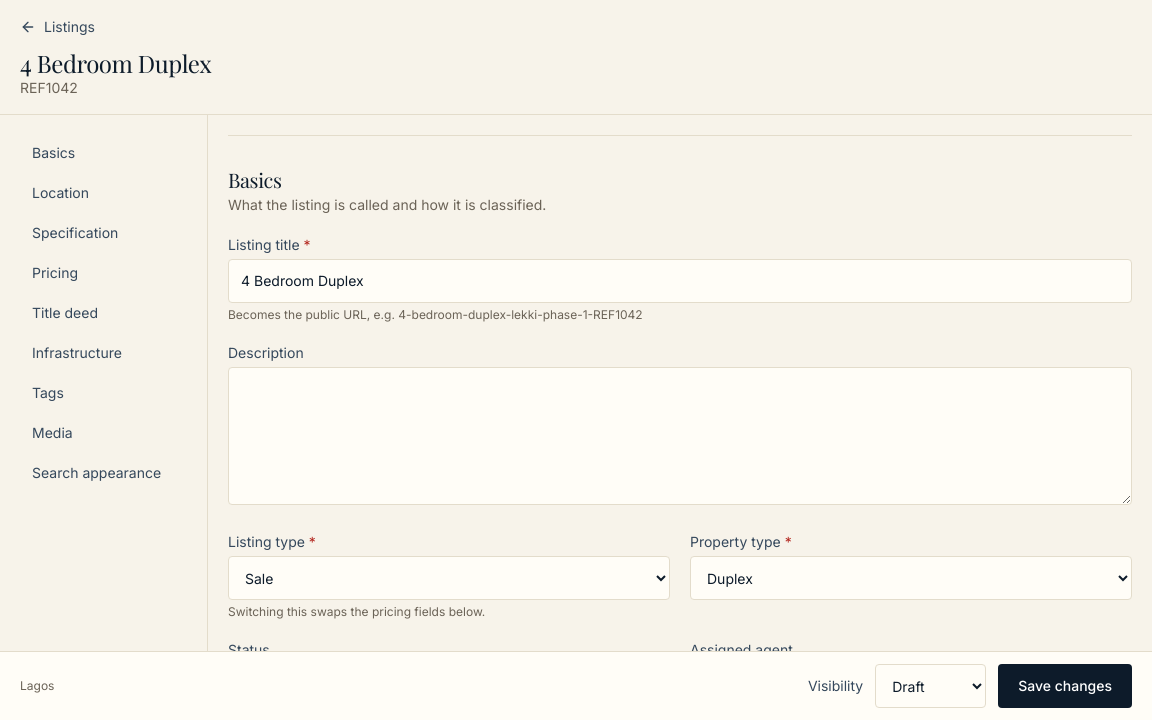
Test: PropertyForm › shows sale pricing for a sale and swaps to rent terms when the type changes
Expected: the field labelled "Agency fee" is not shown
Select "Rent" in the dropdown labelled "Listing type *" at {"x": 449, "y": 578}, box [228, 556, 670, 600]
(page scrolled)
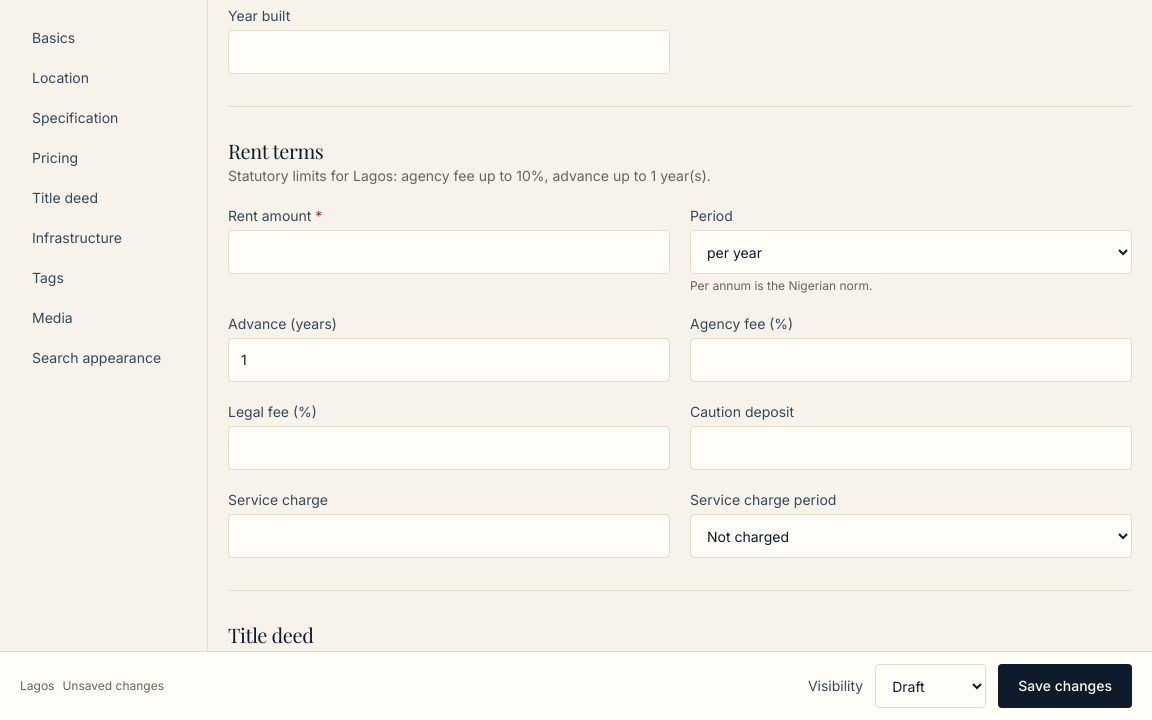
Result: the number field labelled "Agency fee (%)" is shown at [690, 338, 1132, 382]
